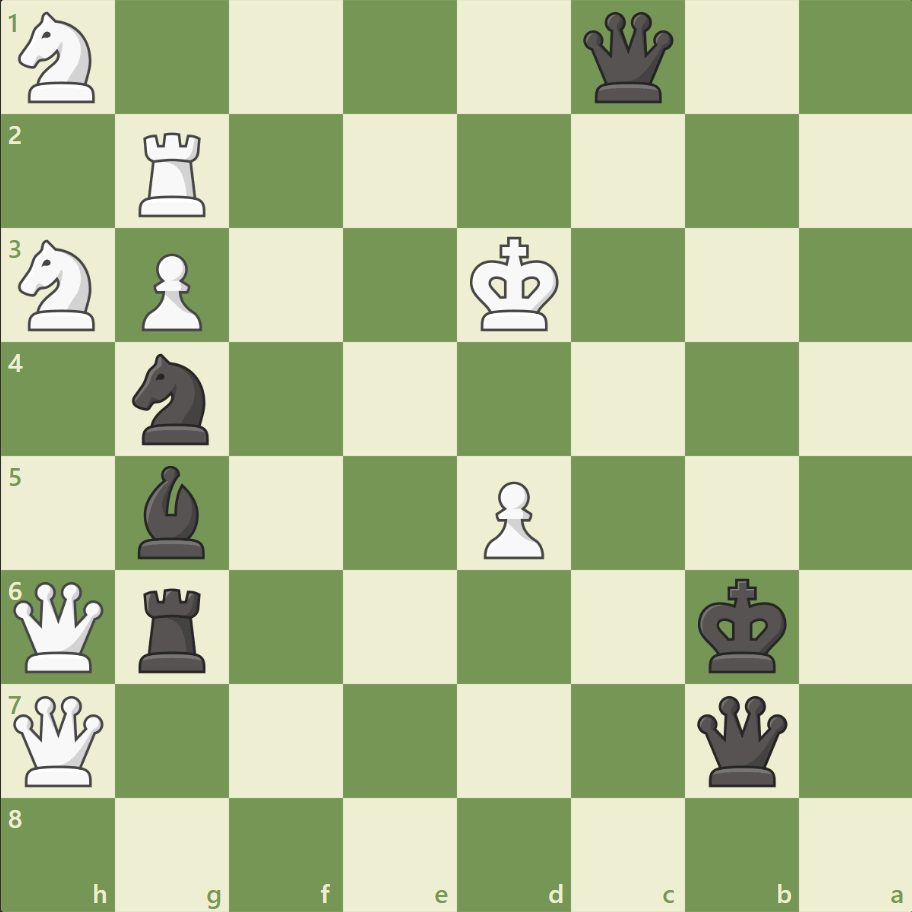K: (465, 231, 565, 339)
N: (11, 234, 108, 337), (11, 7, 108, 110)
P: (474, 473, 549, 564), (133, 246, 208, 337)
Q: (10, 576, 109, 676), (10, 690, 109, 789)
R: (133, 125, 215, 222)
b: (131, 460, 215, 563)
k: (692, 571, 792, 679)
n: (124, 348, 222, 450)
q: (691, 690, 790, 789), (578, 9, 677, 108)
r: (133, 579, 215, 676)
